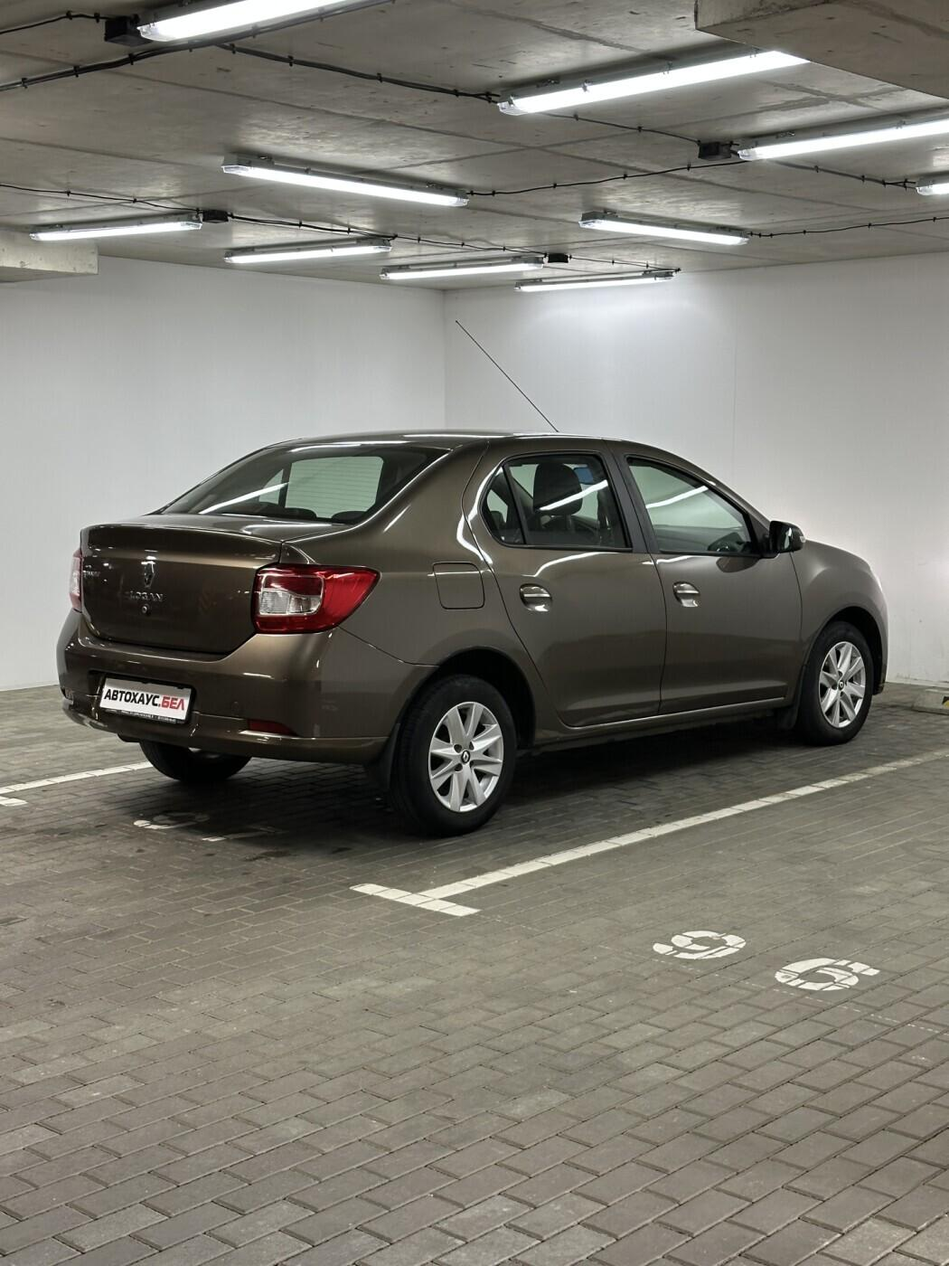Logan_2018: (52, 425, 902, 828)
